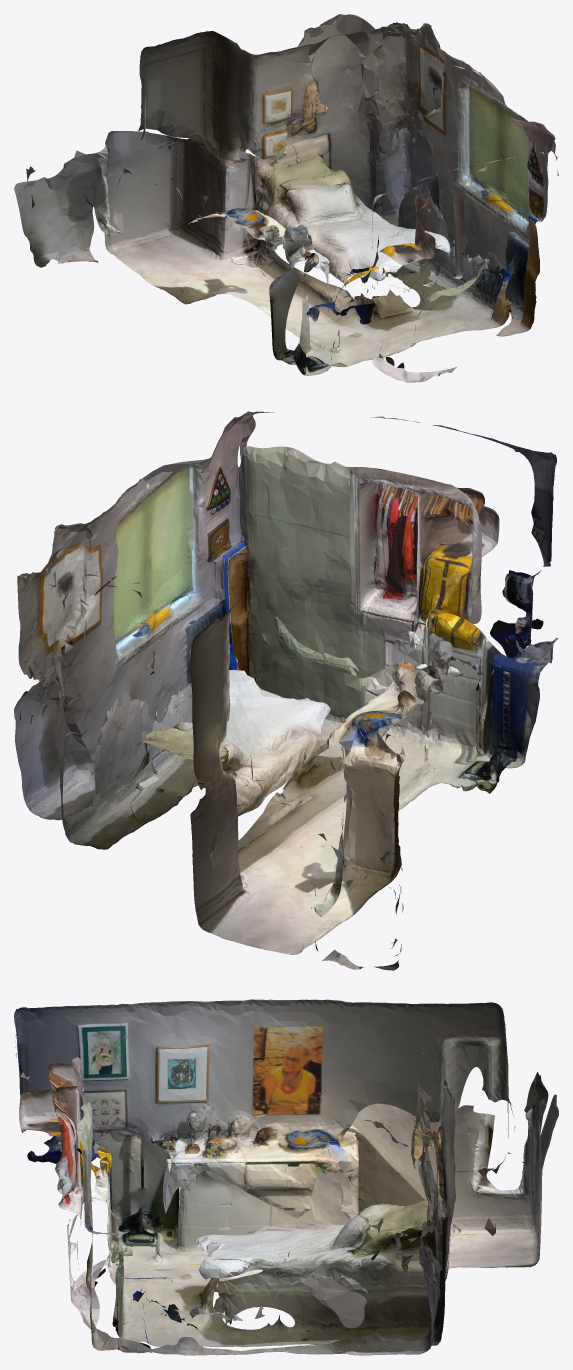
Rendered from bed2-scan-v2.glb.
The picture shows the model from 3 angles, top to bottom: view 1: azimuth 30°, elevation 25°; view 2: azimuth 150°, elevation 25°; view 3: azimuth 270°, elevation 25°; orthographic projection. The views are drawn at different scales.
Bounding box in the file's own units: 4.05 × 2.62 × 4.87.
3 materials, 3 textured.
